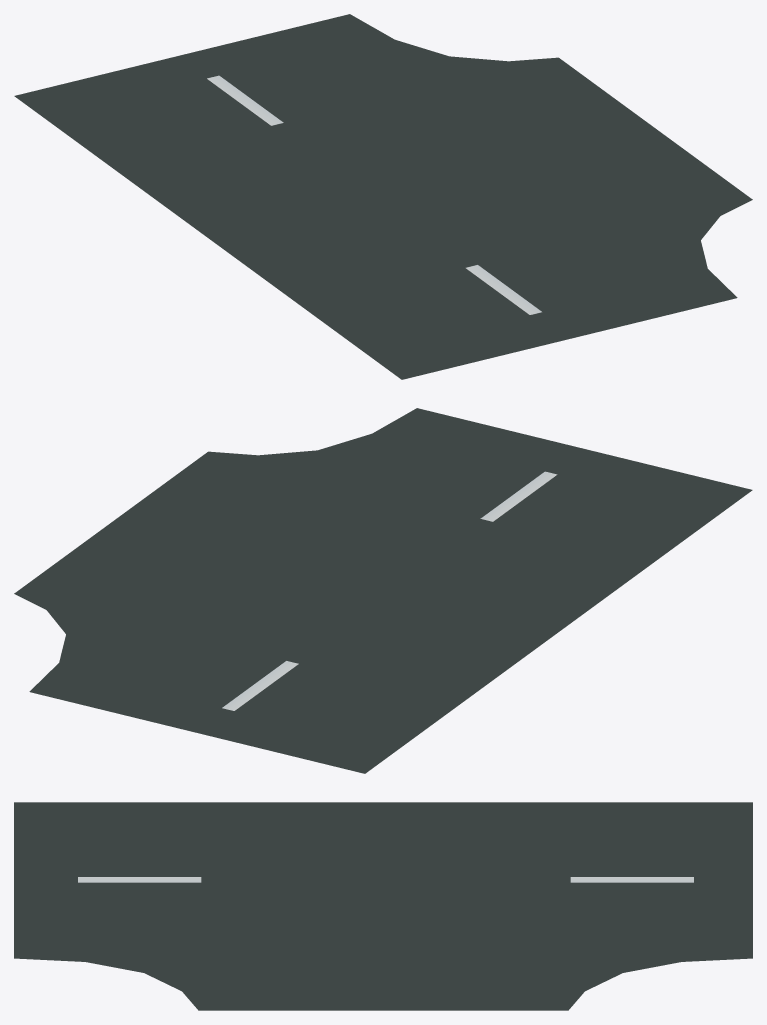
The model's file is Road_2_111.fbx.
3 views of the same model, one above another, from view 1: azimuth 30°, elevation 25°; view 2: azimuth 150°, elevation 25°; view 3: azimuth 270°, elevation 25° (orthographic). The views are drawn at different scales.
Parts seen in each view (by area): view 1: Road_2_111; view 2: Road_2_111; view 3: Road_2_111.
Part boxes in pixels (x1,y1,x2,y2): Road_2_111: [14, 14, 752, 379]; Road_2_111: [14, 408, 752, 773]; Road_2_111: [14, 802, 752, 1010].
Size of the model in its own units: 1200 by 1.66 by 1800.
